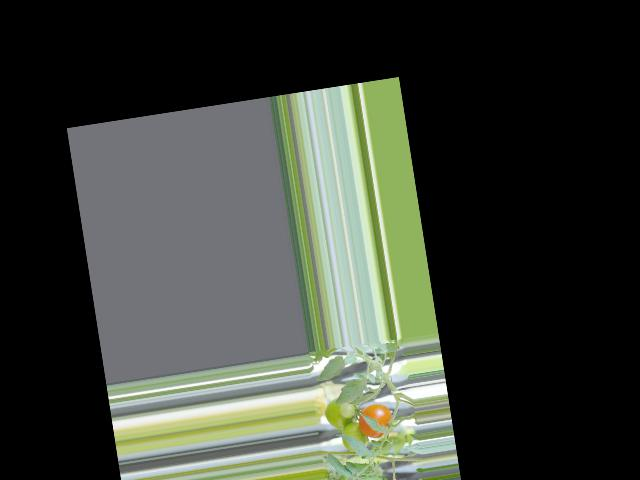tomato: (356, 401, 394, 440)
